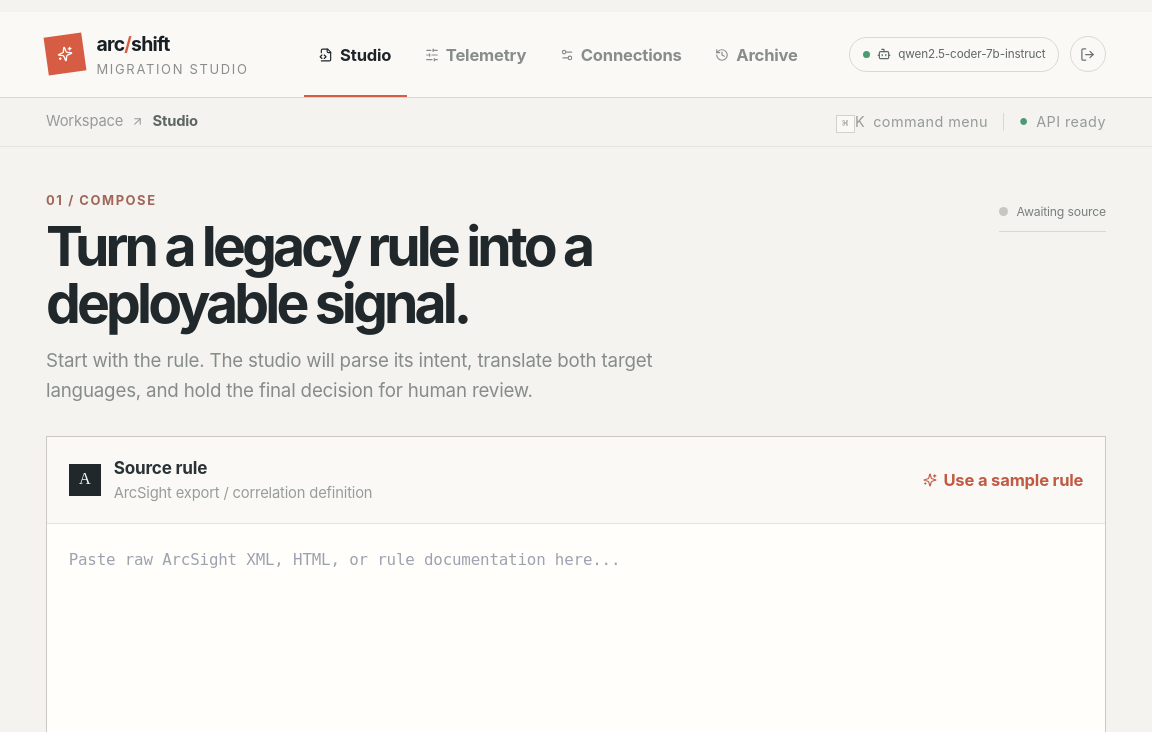
Test case: App Component & Tab Navigation › removes token from storage and drops user to LoginGate when Logout is clicked
The width and height of the screenshot is (1152, 732).
Click the button named "Logout" at (1088, 54), box top-left (1070, 36), bottom-right (1106, 72)
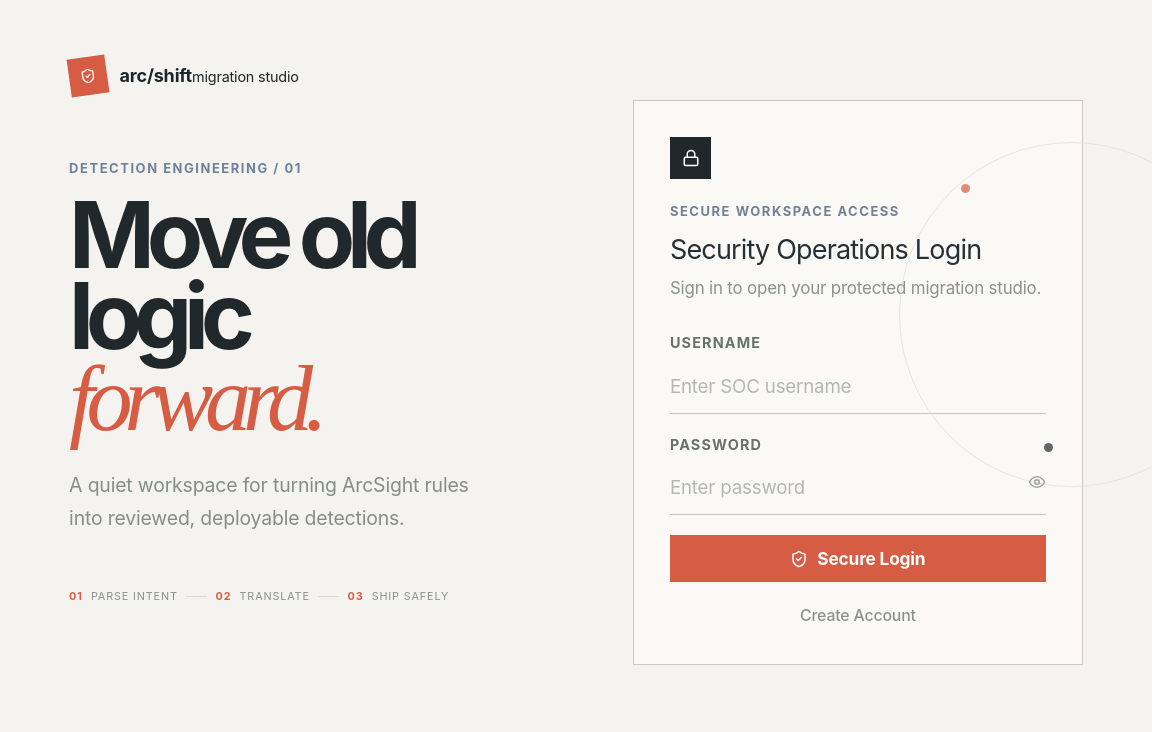
Check: the heading "Security Operations Login" is shown, box top-left (670, 233), bottom-right (981, 266)
Check: the button "Secure Login" is shown, box top-left (670, 535), bottom-right (1046, 582)
